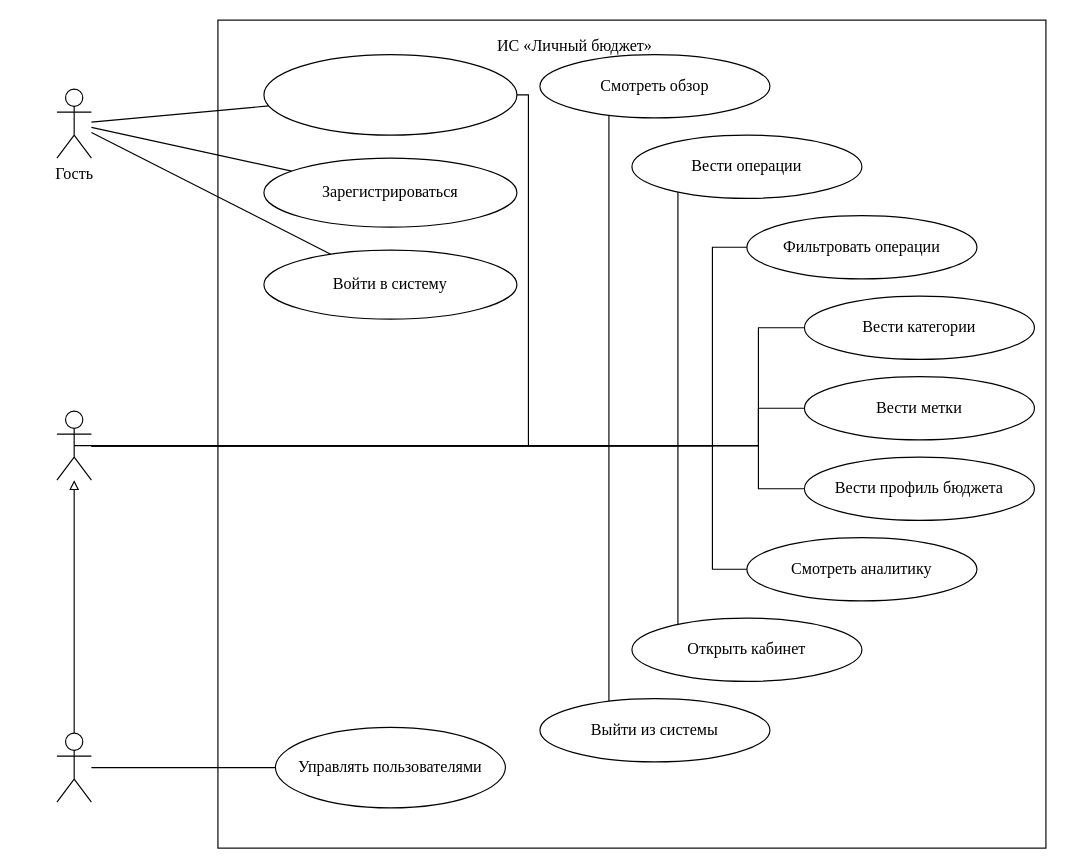
Some shapes in this 1066 by 868 pixel diagram are drawn without their labels. The box of each missing label's shape, as (x1, y1, x2, y2) in pixels:
Администратор: (56, 732, 91, 802)
Пользователь: (56, 410, 91, 480)
Просмотреть главную и термины: (263, 53, 517, 135)
